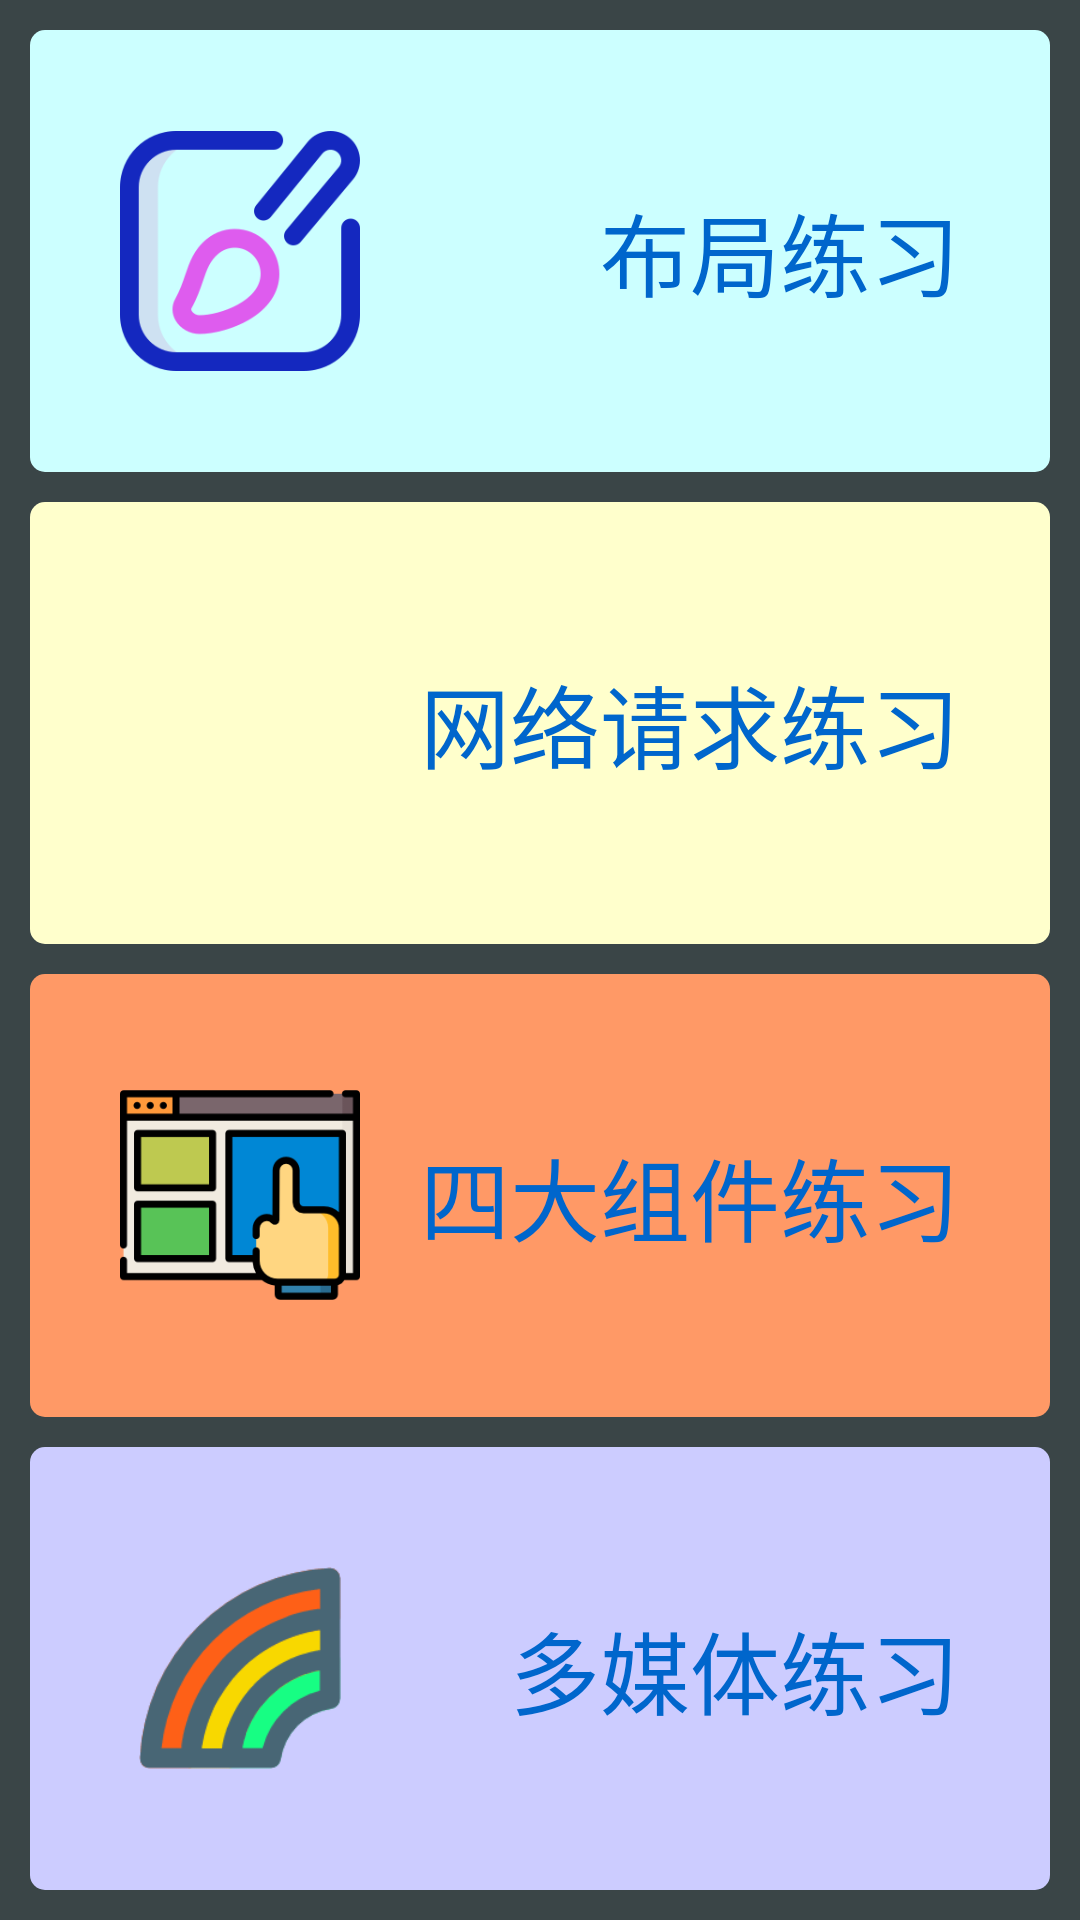

Locate icon controls on the screen. Image size 1080 × 1920, boxes as (left=x1, top=y1, right=x2, bottom=y2).
touchscreen: (left=120, top=1090, right=360, bottom=1300)
